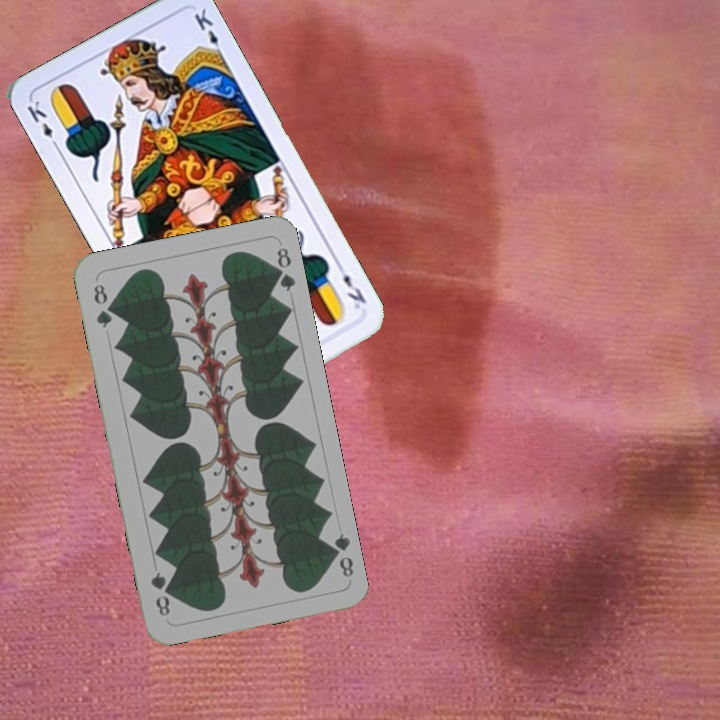EK: (23, 96, 62, 153), (333, 259, 369, 312)
G8: (324, 529, 357, 580), (89, 279, 115, 331)
